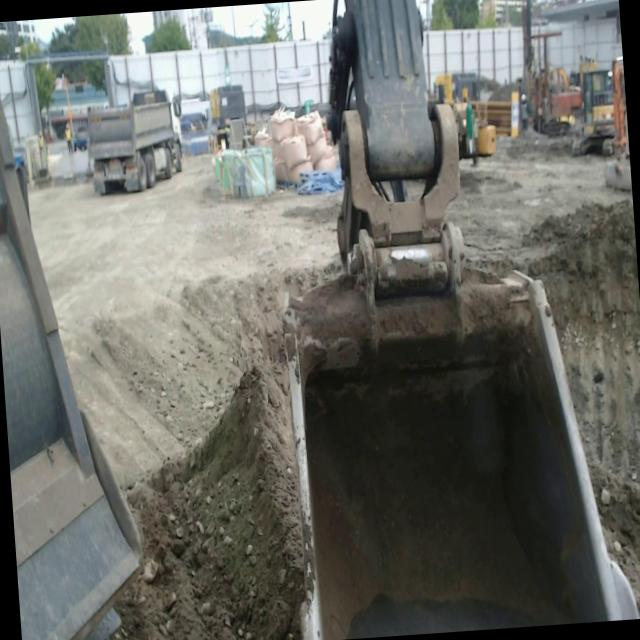white-sand: (30, 155, 341, 640), (450, 139, 640, 616)
